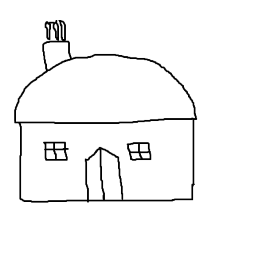closed_window: (37, 137, 71, 167), (121, 138, 152, 161)
door: (75, 145, 131, 207)
roof: (11, 52, 199, 128)
smoking_chimney: (33, 17, 83, 75)
wall: (17, 119, 198, 206)
